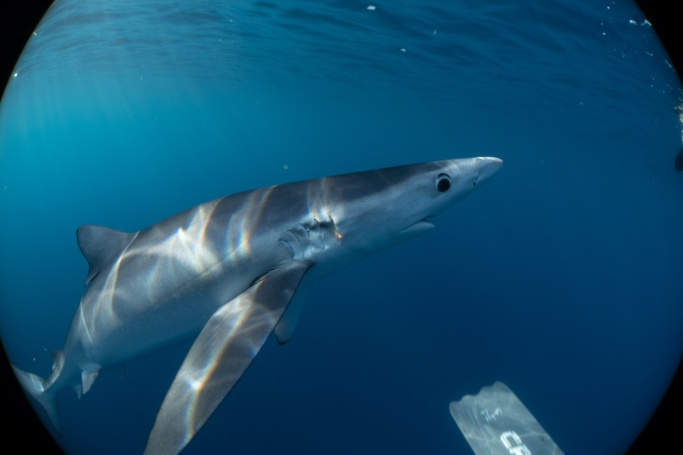Azul: (23, 133, 578, 455)
